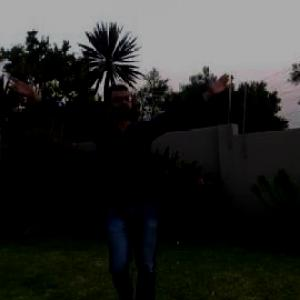takeoff: (1, 57, 246, 299)
